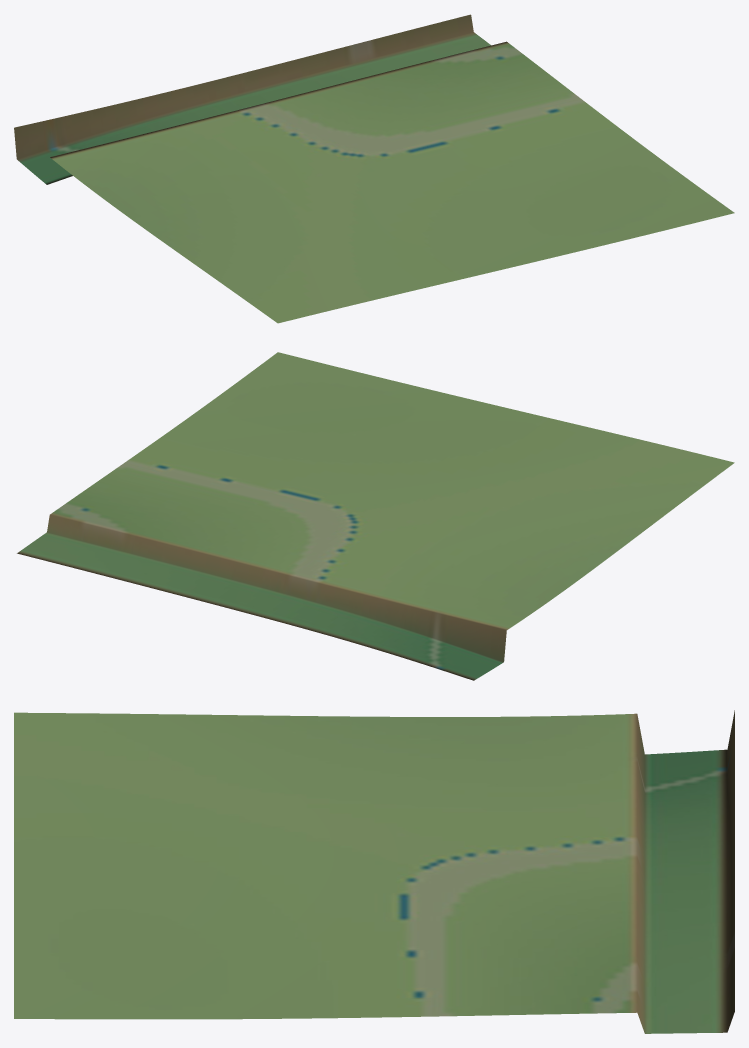
Rendered from terrain_T_E01_S02.glb.
3 views of the same model, one above another, from view 1: azimuth 30°, elevation 25°; view 2: azimuth 150°, elevation 25°; view 3: azimuth 270°, elevation 25° (orthographic). The views are drawn at different scales.
Visible parts, largest first — view 1: Terrain_T_E01_S02; view 2: Terrain_T_E01_S02; view 3: Terrain_T_E01_S02.
Boxes of the visible parts, bbox=[...] form: Terrain_T_E01_S02: bbox=[14, 14, 734, 323]; Terrain_T_E01_S02: bbox=[17, 352, 734, 680]; Terrain_T_E01_S02: bbox=[14, 710, 734, 1033].
Bounding box in the file's own units: 2000 × 146 × 2000.
1 material, 1 textured.
